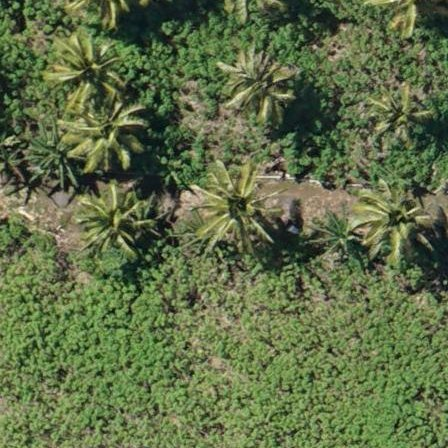palm_tree: (59, 93, 138, 176), (194, 164, 271, 246), (357, 176, 432, 256), (75, 182, 152, 259), (217, 48, 286, 122), (54, 34, 118, 102)
